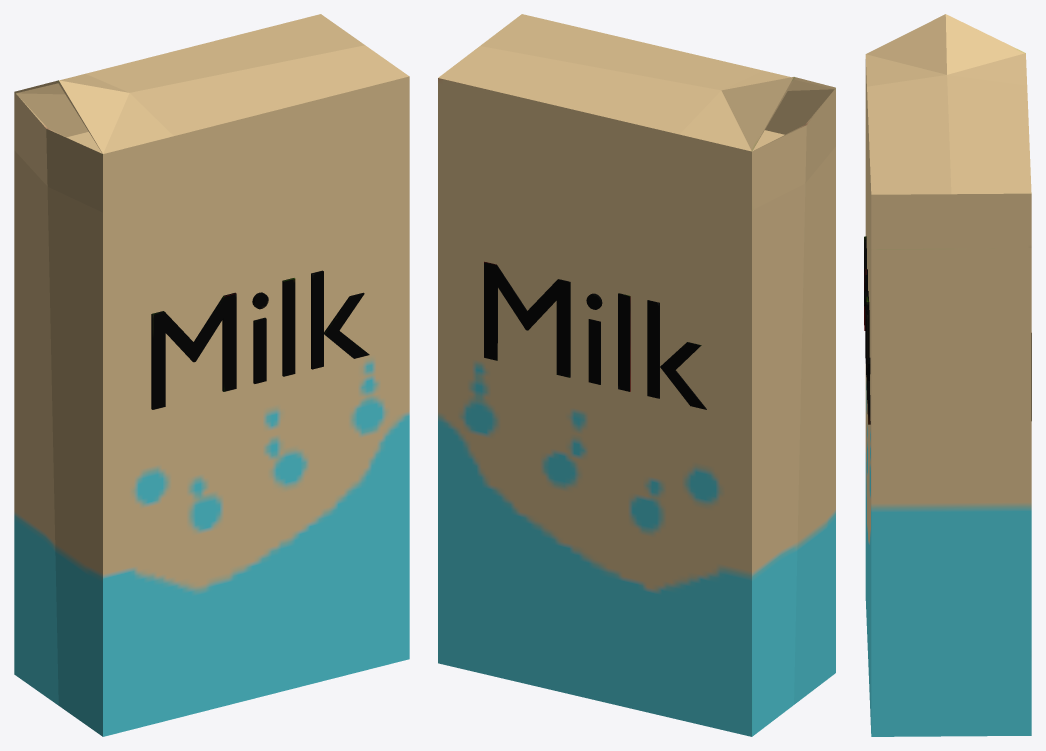
The model's file is milk.fbx.
3 renders of one model, left to right at view 1: azimuth 30°, elevation 25°; view 2: azimuth 150°, elevation 25°; view 3: azimuth 270°, elevation 25°, orthographic. The views are drawn at different scales.
Visible parts, largest first — view 1: Milk; view 2: Milk; view 3: Milk.
Part boxes in pixels (box(x1,y1,x2,y2)): Milk: box(14, 14, 409, 736); Milk: box(438, 14, 835, 736); Milk: box(864, 14, 1031, 736).
Bounding box in the file's own units: 185 × 342 × 89.21.
